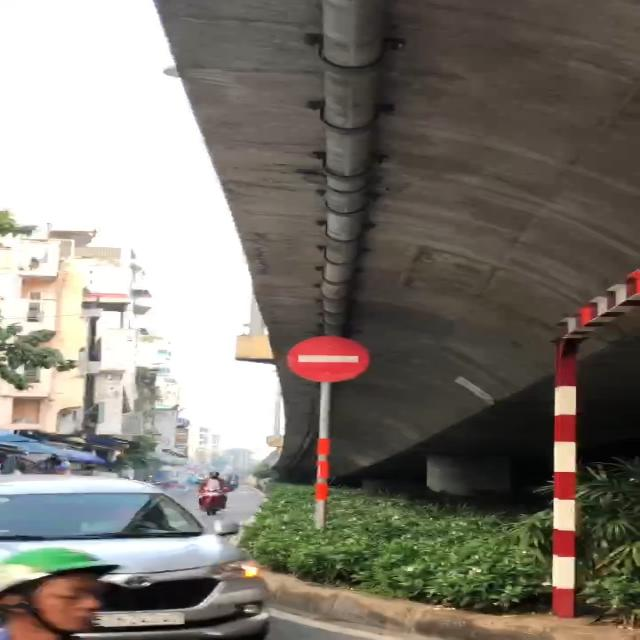Bien bao cam di nguoc chieu: (284, 332, 376, 388)
